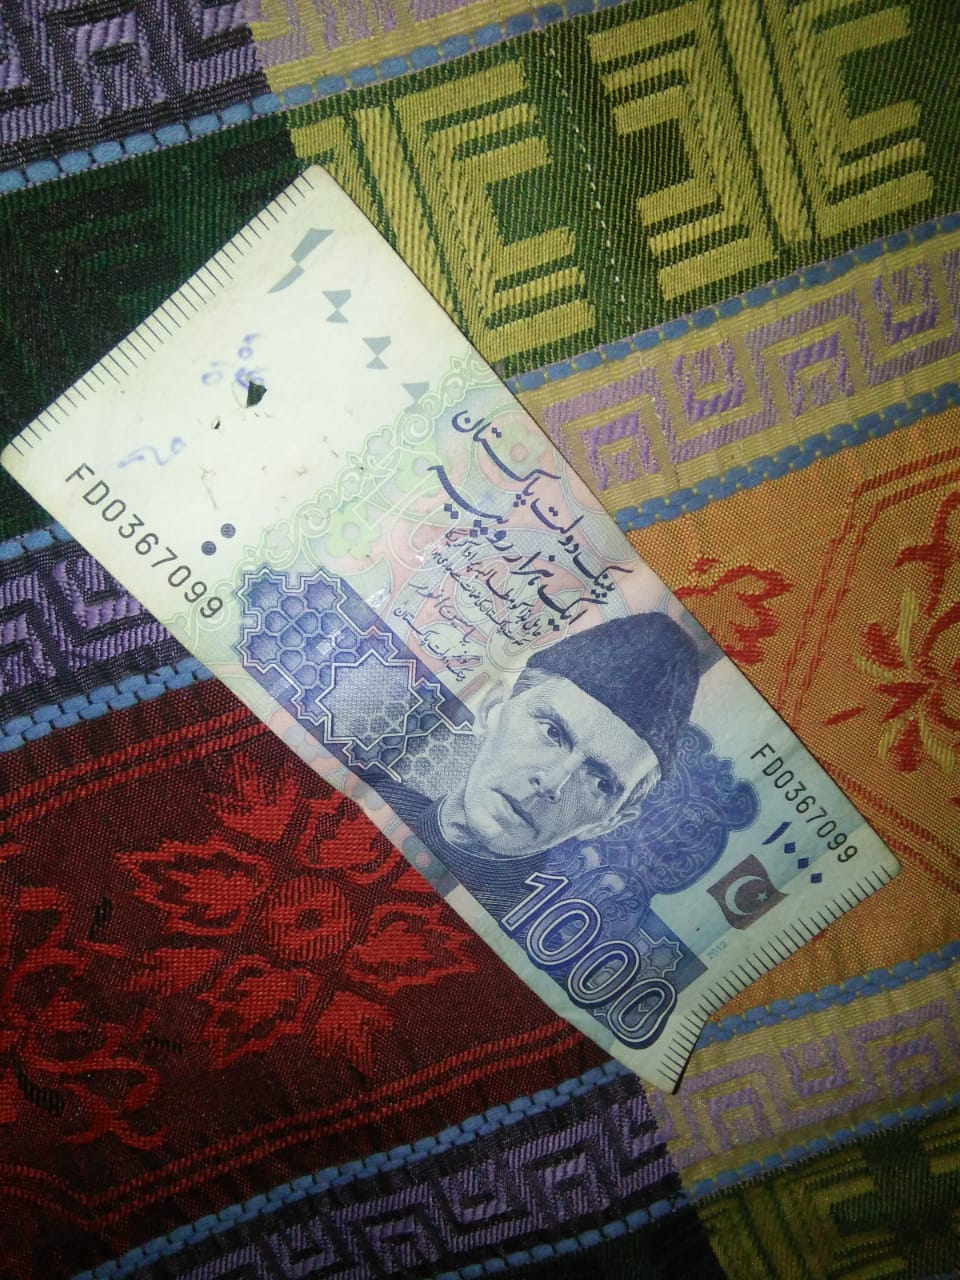1000 rupee: (39, 169, 883, 1076)
